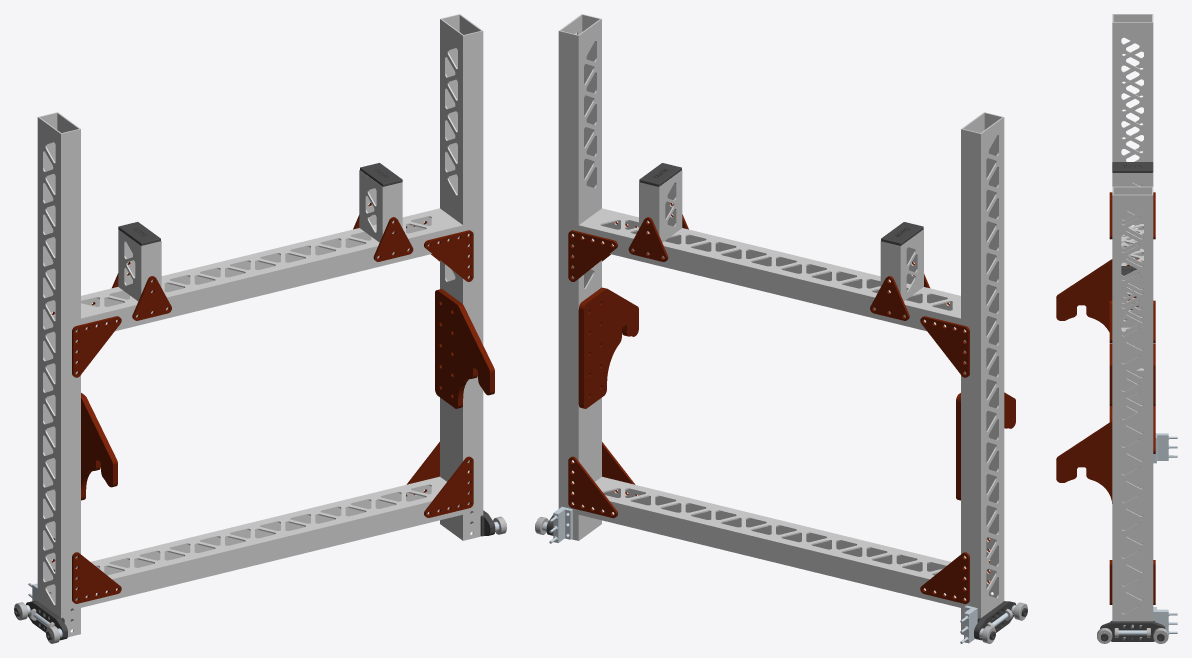
3 views of the same model, side by side, from view 1: azimuth 30°, elevation 25°; view 2: azimuth 150°, elevation 25°; view 3: azimuth 270°, elevation 25° (orthographic). The views are drawn at different scales.
Parts seen in each view (by area): view 1: Tube 2"x1"x19" (×2), Tube 2"x1"x24" mirror, Tube 2"x1"x24", Hook (×2), Gusset (×4), Tube 2"x1"x1.75" (×2), Gusset Stowed bar (×2); view 2: Tube 2"x1"x19" (×2), Tube 2"x1"x24" mirror, Tube 2"x1"x24", Gusset (×4), Hook (×2), Tube 2"x1"x1.75" (×2), Gusset Stowed bar (×2), 25 Chain Attachment Part (ELEV-DRIVE-001); view 3: Tube 2"x1"x24", Tube 2"x1"x24" mirror, Hook (×2), Tube 2"x1"x1.75" (×2), 25 Chain Attachment Part (ELEV-DRIVE-001) (×2), Sliding Bearing Block Plate - SLIDE-001, Stowed TPU Cover, Tube 2"x1"x19", Gusset.
Part boxes in pixels (x1=…): Tube 2"x1"x19" (×2): x1=81, y1=208, x2=462, y2=607; Tube 2"x1"x24" mirror: x1=37, y1=112, x2=80, y2=637; Tube 2"x1"x24": x1=440, y1=14, x2=483, y2=540; Hook (×2): x1=81, y1=289, x2=494, y2=500; Gusset (×4): x1=72, y1=230, x2=473, y2=603; Tube 2"x1"x1.75" (×2): x1=118, y1=170, x2=402, y2=301; Gusset Stowed bar (×2): x1=132, y1=217, x2=413, y2=320; Tube 2"x1"x19" (×2): x1=578, y1=208, x2=960, y2=607; Tube 2"x1"x24" mirror: x1=961, y1=112, x2=1004, y2=634; Tube 2"x1"x24": x1=558, y1=14, x2=601, y2=540; Gusset (×4): x1=568, y1=230, x2=969, y2=603; Hook (×2): x1=578, y1=287, x2=1015, y2=500; Tube 2"x1"x1.75" (×2): x1=639, y1=170, x2=923, y2=301; Gusset Stowed bar (×2): x1=628, y1=217, x2=909, y2=320; 25 Chain Attachment Part (ELEV-DRIVE-001): x1=549, y1=506, x2=572, y2=543; Tube 2"x1"x24": x1=1112, y1=186, x2=1153, y2=638; Tube 2"x1"x24" mirror: x1=1112, y1=14, x2=1153, y2=411; Hook (×2): x1=1056, y1=258, x2=1138, y2=503; Tube 2"x1"x1.75" (×2): x1=1112, y1=173, x2=1153, y2=327; 25 Chain Attachment Part (ELEV-DRIVE-001) (×2): x1=1153, y1=433, x2=1177, y2=634; Sliding Bearing Block Plate - SLIDE-001: x1=1100, y1=620, x2=1165, y2=641; Stowed TPU Cover: x1=1112, y1=162, x2=1153, y2=172; Tube 2"x1"x19": x1=1121, y1=224, x2=1143, y2=371; Gusset: x1=1109, y1=343, x2=1112, y2=405.
Size of the model in its own units: 0.5765 by 0.6096 by 0.1512.
